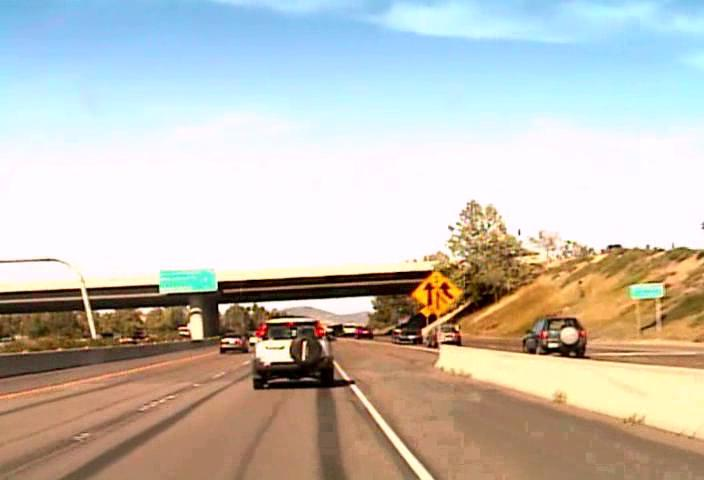addedLane: (411, 269, 463, 316)
